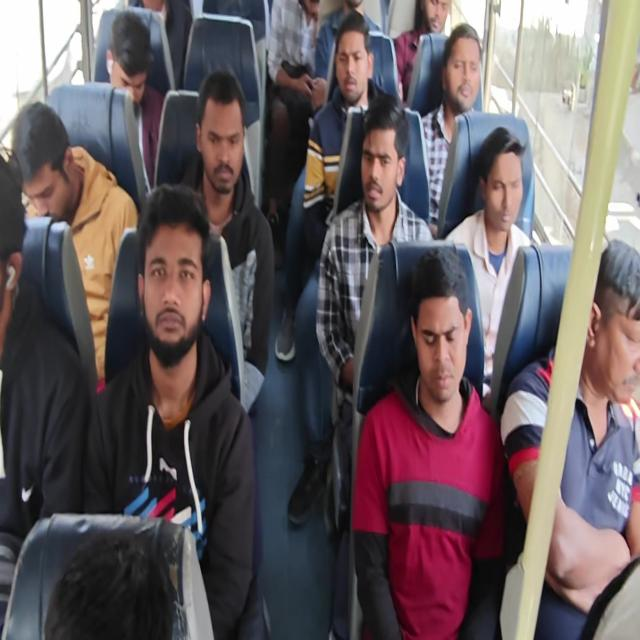person: (48, 527, 179, 640), (131, 177, 209, 359), (405, 247, 475, 422), (589, 224, 640, 418), (6, 96, 79, 220), (474, 115, 531, 258), (349, 87, 407, 220), (196, 59, 248, 193), (333, 19, 375, 124), (0, 142, 22, 332), (446, 27, 483, 126), (109, 13, 149, 104), (426, 0, 446, 36)
